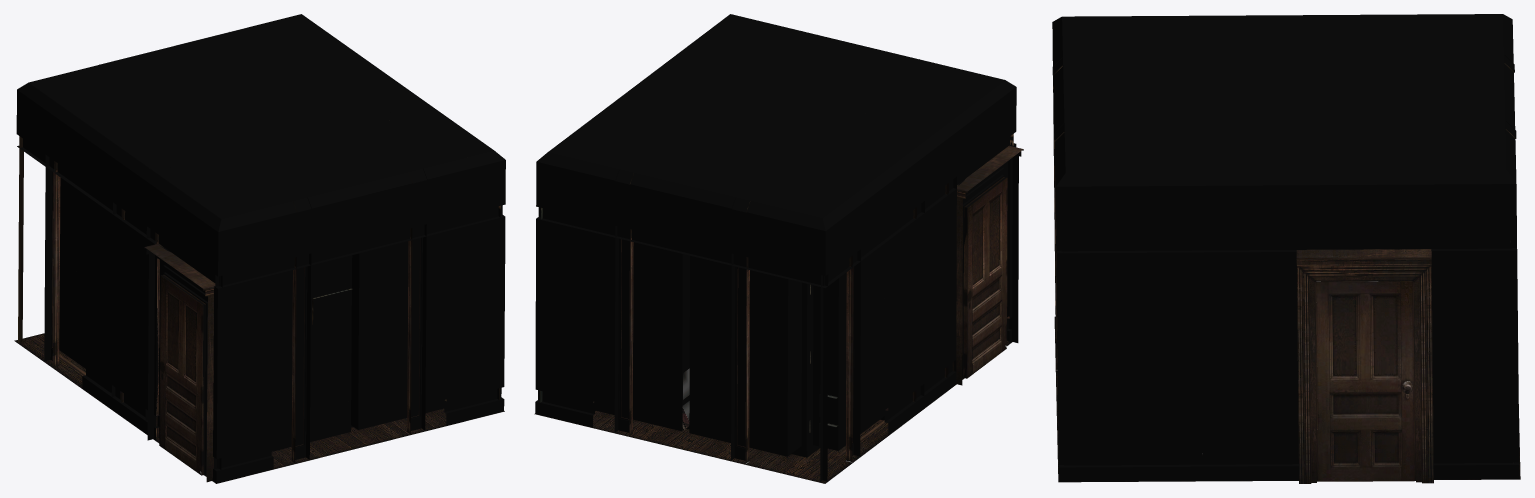
The model's file is silent_hill_2_baldwin_study_room_normal.glb.
3 views of the same model, side by side, from view 1: azimuth 30°, elevation 25°; view 2: azimuth 150°, elevation 25°; view 3: azimuth 270°, elevation 25° (orthographic). The views are drawn at different scales.
Visible parts, largest first — view 1: Material2, Material3 (×4); view 2: Material2, Material3 (×4); view 3: Material2, Material3 (×2).
Boxes of the visible parts, bbox=[...] form: Material2: bbox=[16, 14, 505, 483]; Material3 (×4): bbox=[14, 64, 504, 483]; Material2: bbox=[535, 14, 1023, 481]; Material3 (×4): bbox=[534, 34, 1023, 483]; Material2: bbox=[1052, 14, 1519, 481]; Material3 (×2): bbox=[1054, 249, 1520, 483].
Bounding box in the file's own units: 106 × 84.97 × 118.
Materials: 10 (10 with a texture image).
